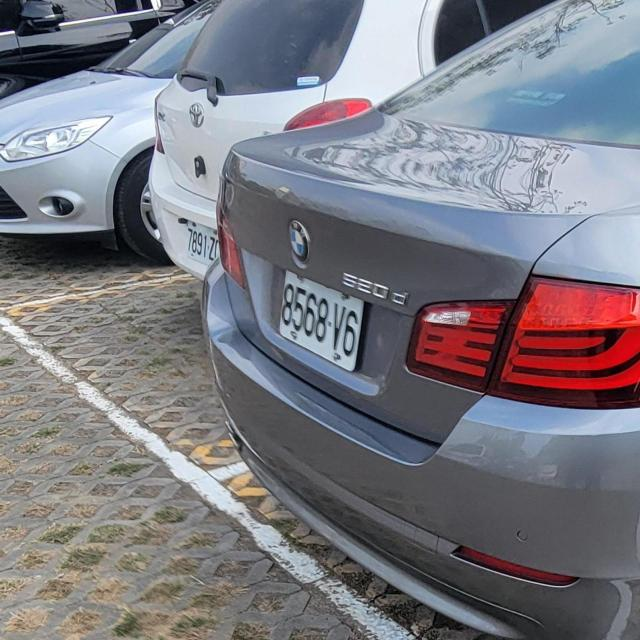W: (272, 266, 377, 376)
